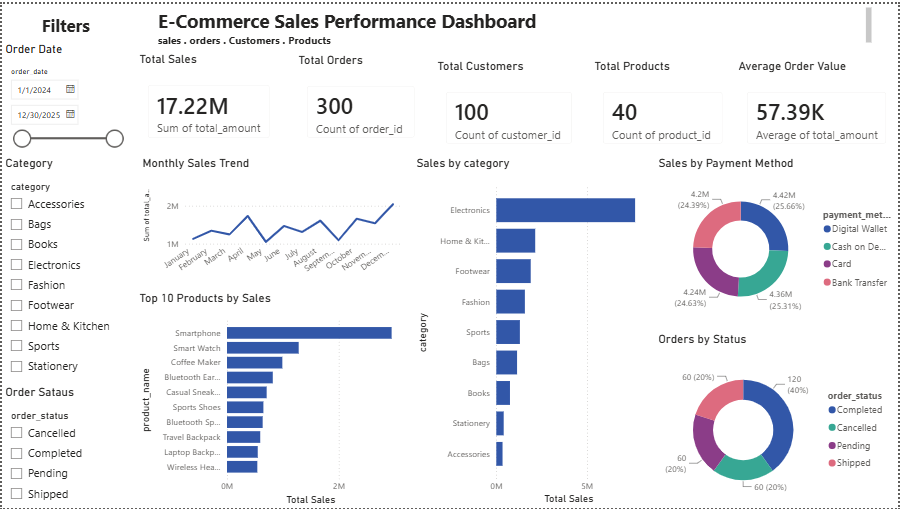

What the dashboard file says about the page in this screenshot:
{"tool":"powerbi","page":{"name":"Sales Performence Overview","canvas":[1280,720],"ordinal":0},"visuals":[{"type":"cardVisual","title":"Total Sales","fields":{"Data":["Sum(ecommerce_project orders.total_amount)"]},"box":[191.7,68.3,208.1,140.1],"z":0},{"type":"cardVisual","title":"Total Orders","fields":{"Data":["Count(ecommerce_project orders.order_id)"]},"box":[418.3,70,188.5,138.8],"z":1000},{"type":"cardVisual","title":"Total Customers","fields":{"Data":["CountNonNull(ecommerce_project customers.customer_id)"]},"box":[616.7,78.3,214.7,138.8],"z":2000},{"type":"cardVisual","title":"Total Products","fields":{"Data":["CountNonNull(ecommerce_project products.product_id)"]},"box":[841.7,78.3,205.5,138.8],"z":3000},{"type":"cardVisual","title":"Average Order Value","fields":{"Data":["Avg(ecommerce_project orders.total_amount)"]},"box":[1046.7,78.3,233,138.8],"z":4000},{"type":"lineChart","title":"Monthly Sales Trend","fields":{"Category":["ecommerce_project orders.order_date.Variation.Date Hierarchy.Month"],"Y":["Sum(ecommerce_project orders.total_amount)"]},"box":[195.1,217.3,378.3,179.3],"z":5000},{"type":"clusteredBarChart","title":" Sales by category","fields":{"Category":["ecommerce_project products.category"],"Y":["ecommerce_project order_items.Total Sales"]},"box":[587.8,217.3,340.4,502.7],"z":6000},{"type":"donutChart","title":"Sales by Payment Method","fields":{"Category":["ecommerce_project orders.payment_method"],"Y":["Sum(ecommerce_project orders.total_amount)"]},"box":[933.4,217.3,346.9,235.6],"z":7000},{"type":"clusteredBarChart","title":"Top 10 Products by Sales","fields":{"Category":["ecommerce_project products.product_name"],"Y":["ecommerce_project order_items.Total Sales"]},"box":[191.1,409.7,383.6,310.3],"z":8000},{"type":"donutChart","title":"Orders by Status","fields":{"Category":["ecommerce_project orders.order_status"],"Y":["CountNonNull(ecommerce_project orders.order_id)"]},"box":[933.4,468.7,346.9,250],"z":9000},{"type":"textbox","box":[216.7,0,1030,63.3],"z":10000},{"type":"textbox","box":[0,9.2,182,44.5],"z":11000},{"type":"slicer","title":"Order Date","fields":{"Values":["ecommerce_project orders.order_date"]},"box":[0,53.7,181.8,155.6],"z":12000},{"type":"slicer","title":"Category","fields":{"Values":["ecommerce_project products.category"]},"box":[0,217.3,181.8,323.5],"z":13000},{"type":"slicer","title":"Order Sataus","fields":{"Values":["ecommerce_project orders.order_status"]},"box":[0,543.7,181.8,175.6],"z":14000}]}

Visuals, with their boxes in screenshot pixels (x1, y1, x2, y2), scaled from the page's 1280x720 canvas onto the 901x509 screenshot:
"Total Sales" cardVisual: Rect(135, 48, 281, 147)
"Total Orders" cardVisual: Rect(294, 49, 427, 148)
"Total Customers" cardVisual: Rect(434, 55, 585, 153)
"Total Products" cardVisual: Rect(592, 55, 737, 153)
"Average Order Value" cardVisual: Rect(737, 55, 900, 153)
"Monthly Sales Trend" lineChart: Rect(137, 154, 404, 280)
" Sales by category" clusteredBarChart: Rect(414, 154, 653, 508)
"Sales by Payment Method" donutChart: Rect(657, 154, 900, 320)
"Top 10 Products by Sales" clusteredBarChart: Rect(135, 290, 405, 508)
"Orders by Status" donutChart: Rect(657, 331, 900, 508)
textbox: Rect(153, 0, 878, 45)
textbox: Rect(0, 7, 128, 38)
"Order Date" slicer: Rect(0, 38, 128, 148)
"Category" slicer: Rect(0, 154, 128, 382)
"Order Sataus" slicer: Rect(0, 384, 128, 508)
